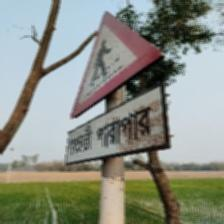Pedestrian-crossing: (66, 12, 170, 166)
